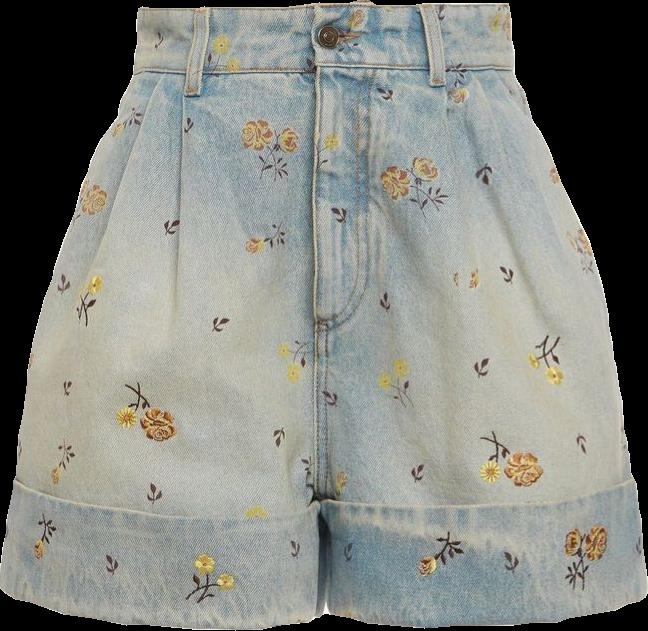Hemline: (0, 583, 326, 630), (320, 592, 647, 630)
Pantleg: (310, 0, 647, 627), (0, 4, 321, 628)
Waistline: (12, 476, 315, 524), (312, 477, 635, 512), (126, 61, 514, 78), (136, 2, 510, 15)
